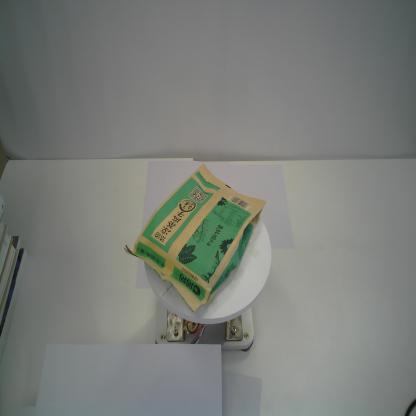Dried Food: (123, 162, 268, 315)
